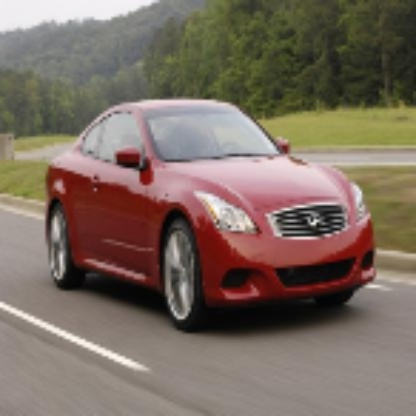Vehicle: (45, 98, 377, 336)
